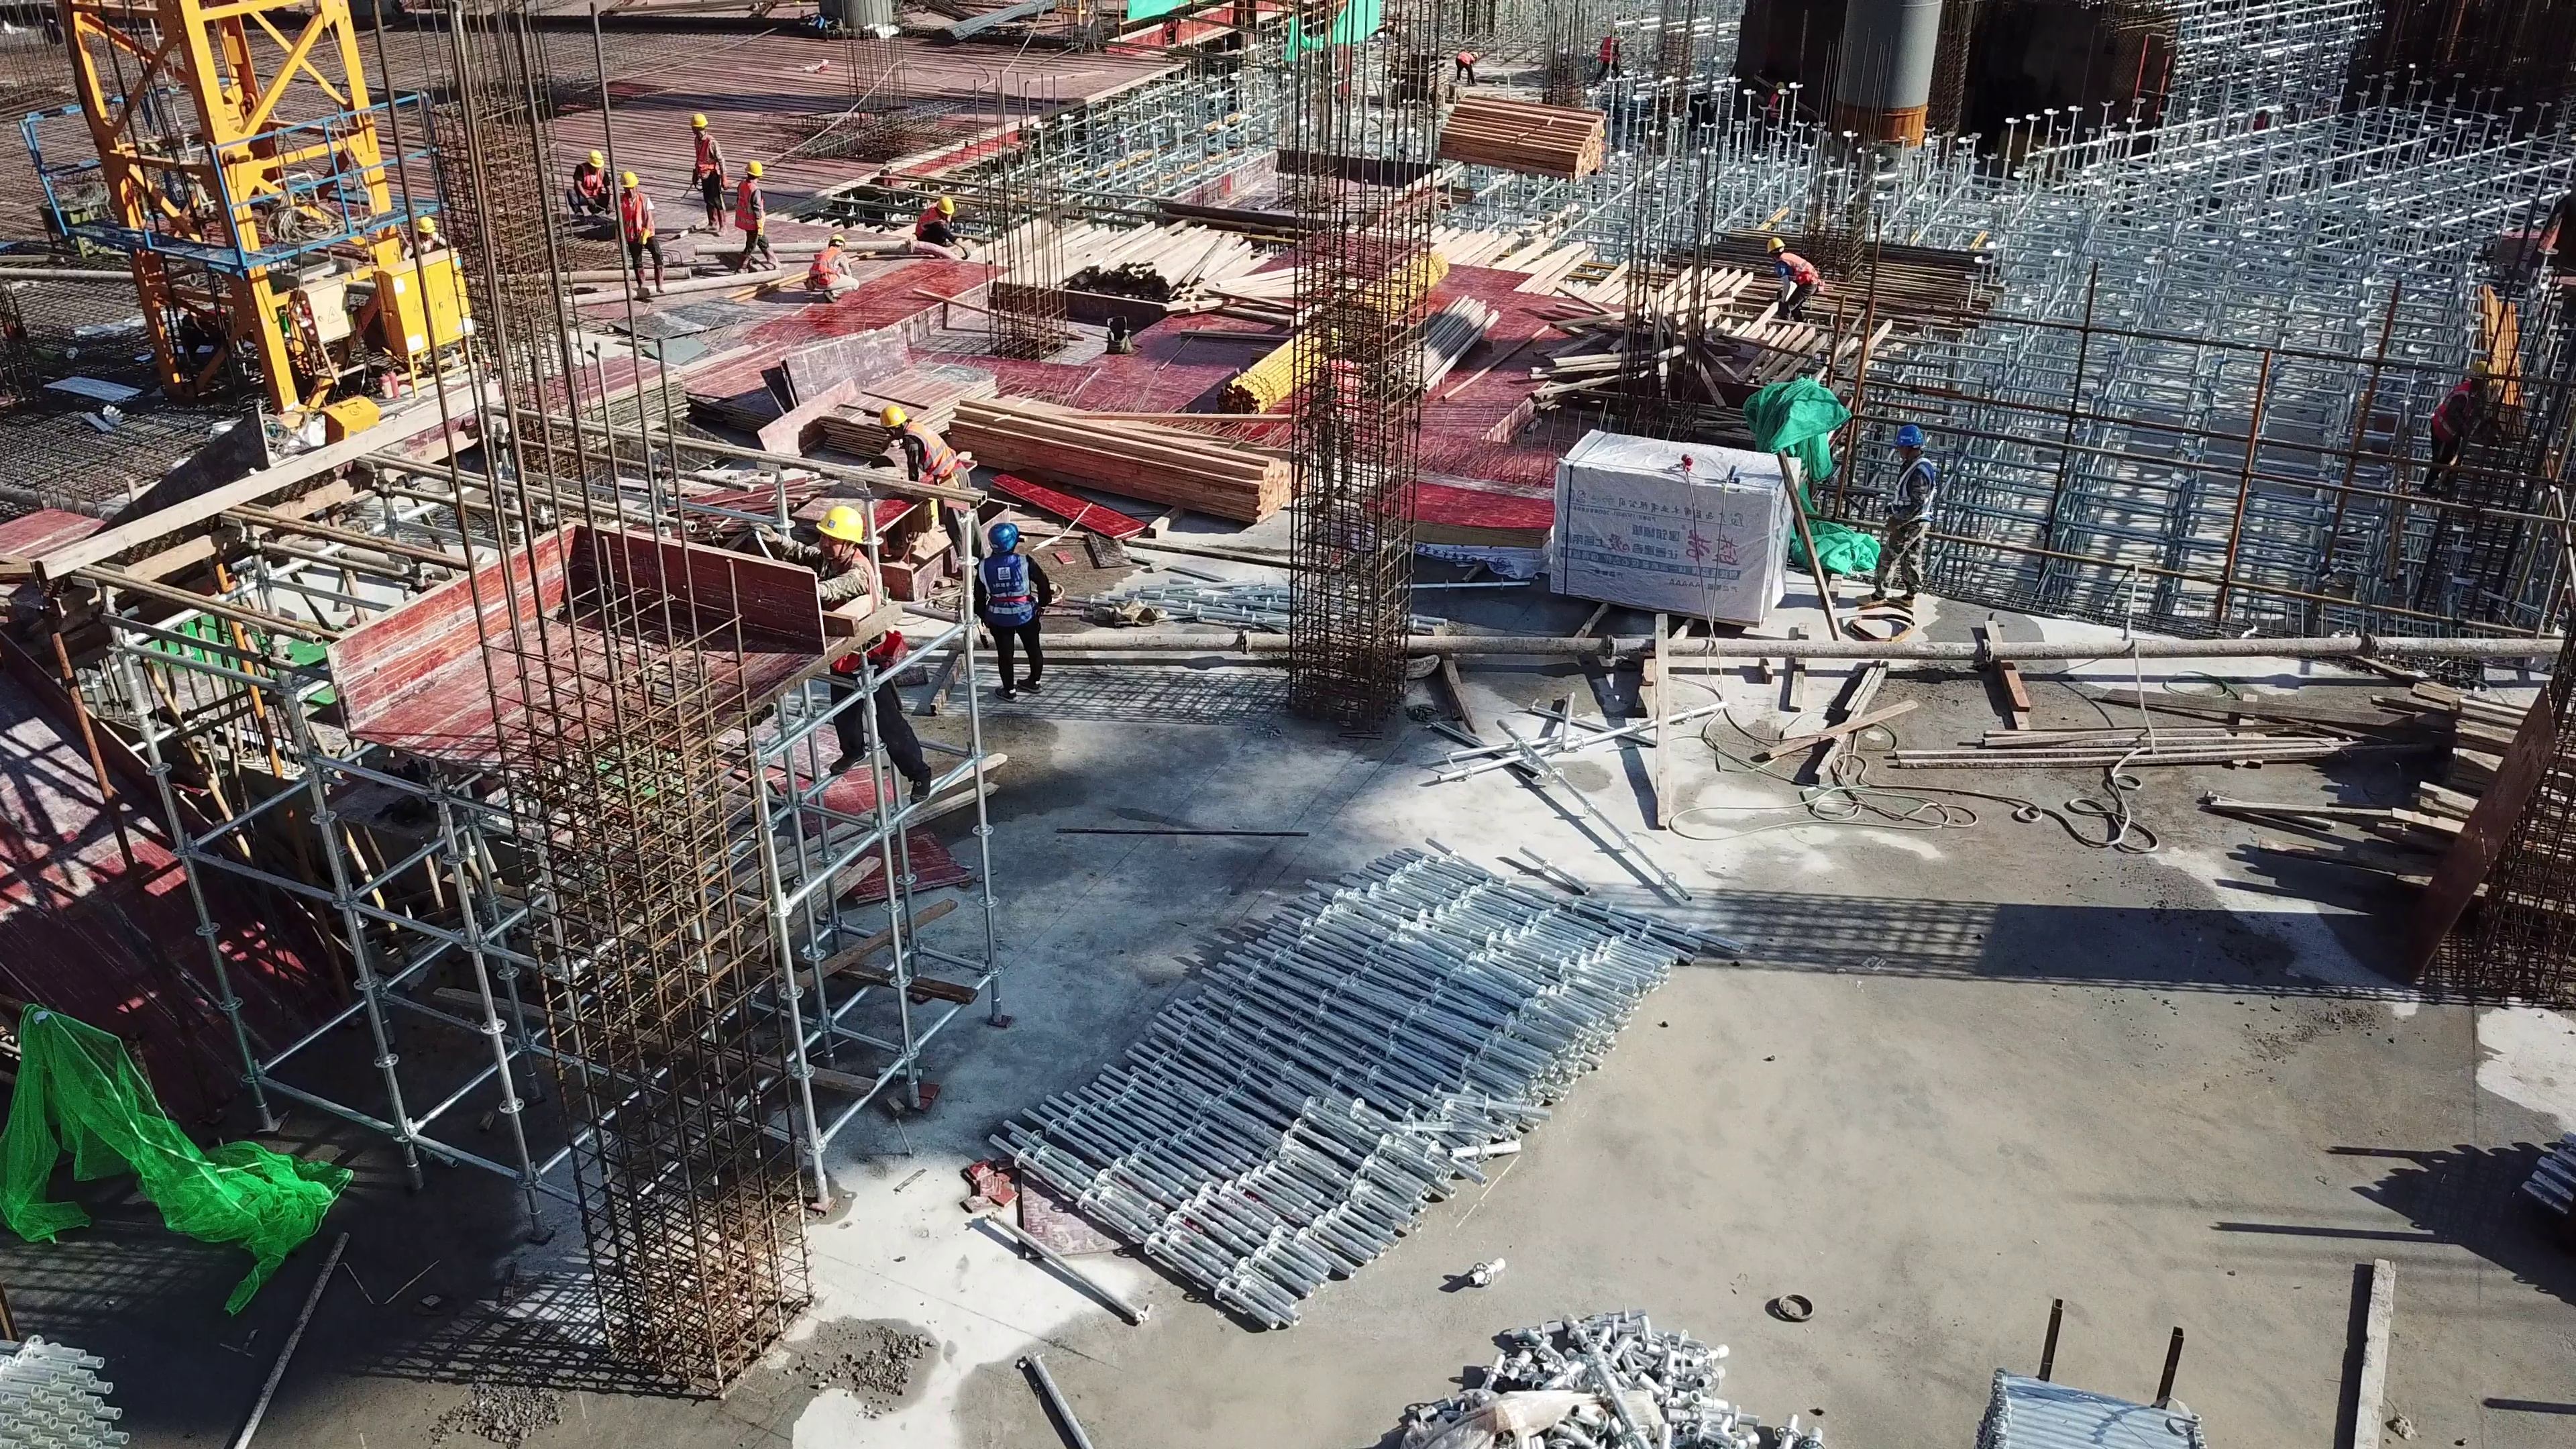board: (826, 366, 983, 458), (548, 358, 682, 453), (1366, 482, 1551, 549)
cutter: (799, 451, 971, 535)
ebox: (380, 246, 469, 368), (305, 283, 366, 379)
helmet: (811, 503, 869, 541), (985, 522, 1024, 556), (881, 400, 908, 431), (1894, 422, 1925, 447), (584, 148, 606, 171), (741, 160, 767, 177), (413, 215, 433, 233), (936, 197, 955, 213), (1766, 234, 1784, 254), (621, 167, 636, 190), (694, 113, 710, 133), (830, 232, 843, 244)
person: (750, 506, 935, 806), (879, 403, 984, 570), (1852, 423, 1938, 612), (976, 524, 1052, 700), (2416, 362, 2496, 506), (1309, 325, 1359, 513), (616, 170, 663, 295), (686, 113, 729, 238), (734, 161, 779, 275), (1765, 235, 1820, 323), (915, 197, 969, 262), (808, 233, 859, 305), (567, 150, 612, 219), (400, 216, 451, 259), (1596, 28, 1621, 89), (1454, 49, 1479, 84)
rebar: (941, 3, 1062, 42)
scaffold: (1006, 866, 1662, 1320), (1980, 1367, 2179, 1449), (7, 1340, 131, 1447), (2520, 1146, 2576, 1228)
vest: (822, 555, 894, 666), (978, 554, 1038, 627), (904, 422, 959, 479), (1889, 453, 1932, 525), (2429, 379, 2475, 441), (736, 180, 764, 236), (619, 192, 647, 239), (1776, 254, 1815, 288), (811, 246, 838, 284), (578, 162, 604, 200), (916, 207, 945, 233), (696, 136, 710, 174), (1601, 36, 1616, 62), (1458, 50, 1472, 62)
wood: (958, 397, 1302, 519), (1439, 96, 1603, 172)
